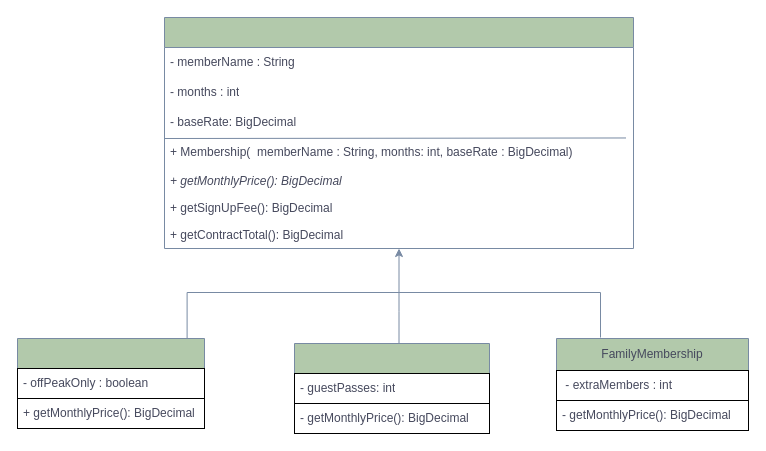
Some shapes in this 766 by 451 pixel diagram are drawn without their labels. Each missing label, with the box of its shape:
<<abstract>> Membership: (164, 16, 634, 248)
BasicMembership: (16, 338, 204, 428)
PremiumMembership: (294, 342, 490, 434)
